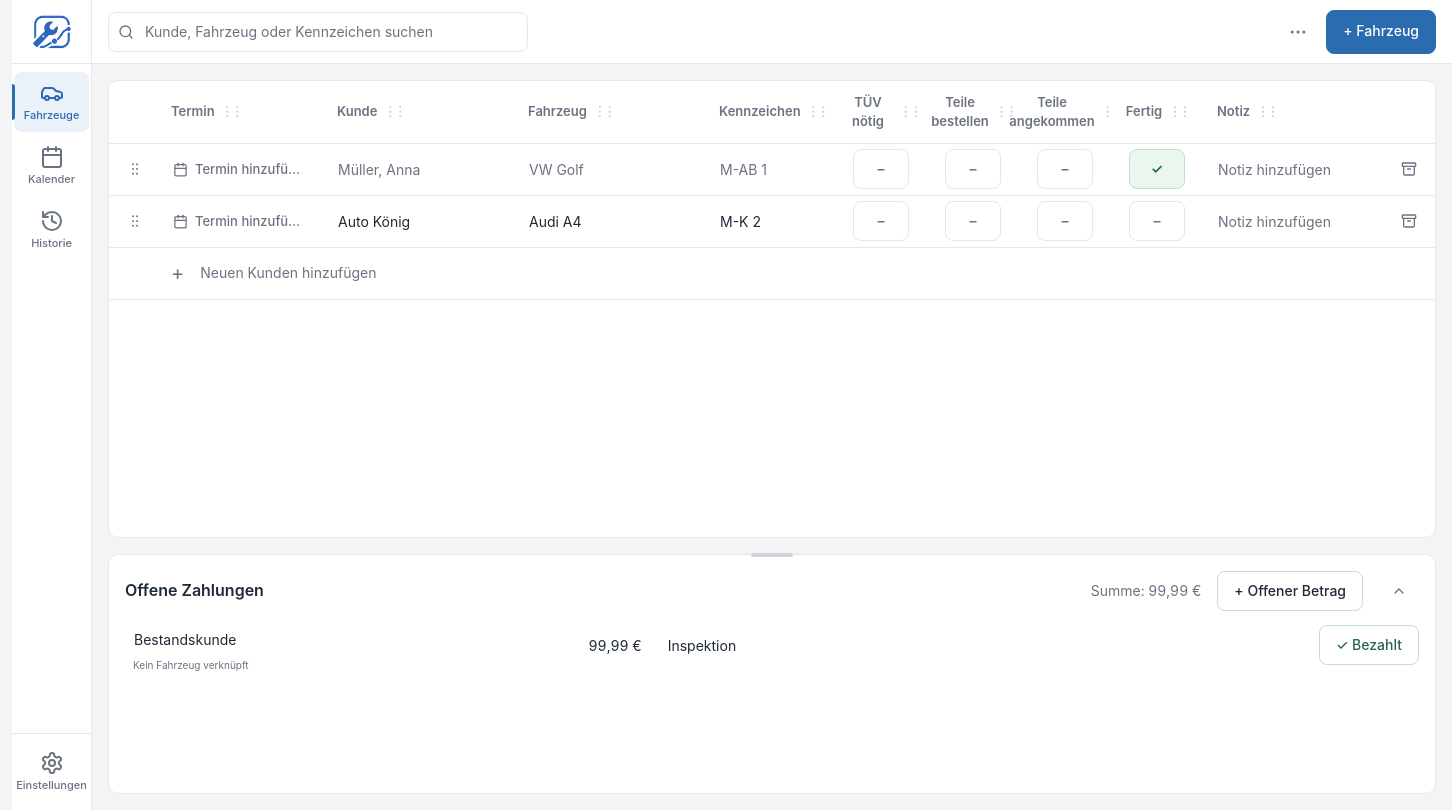
Test: Secret-Sitzung und Inline-Historie › blendet Secret-History in der bereits geöffneten Historie erst nach Long-Press ein
The image size is (1452, 810).
Expected: the 1st field showing "Müller, Anna" is shown, [329,149,508,189]
Click the button "Historie".
click(52, 230)  # box [14,200,89,260]
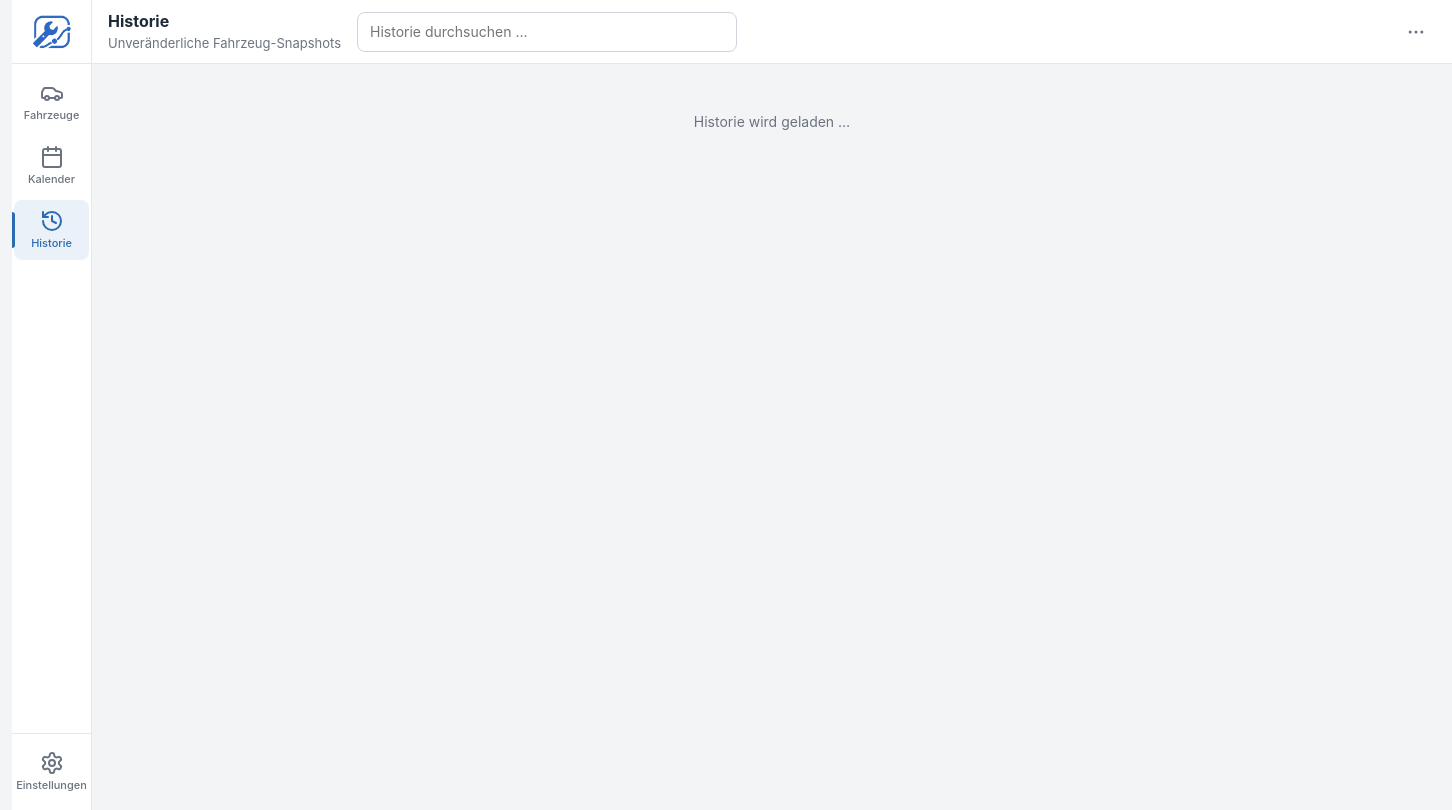
Expected: the text "Versteckte Rechnung" is not shown
Press the mouse on the element with class "app-logo" at point(52, 32), box [32,12,72,52]
Wait 3000 ms
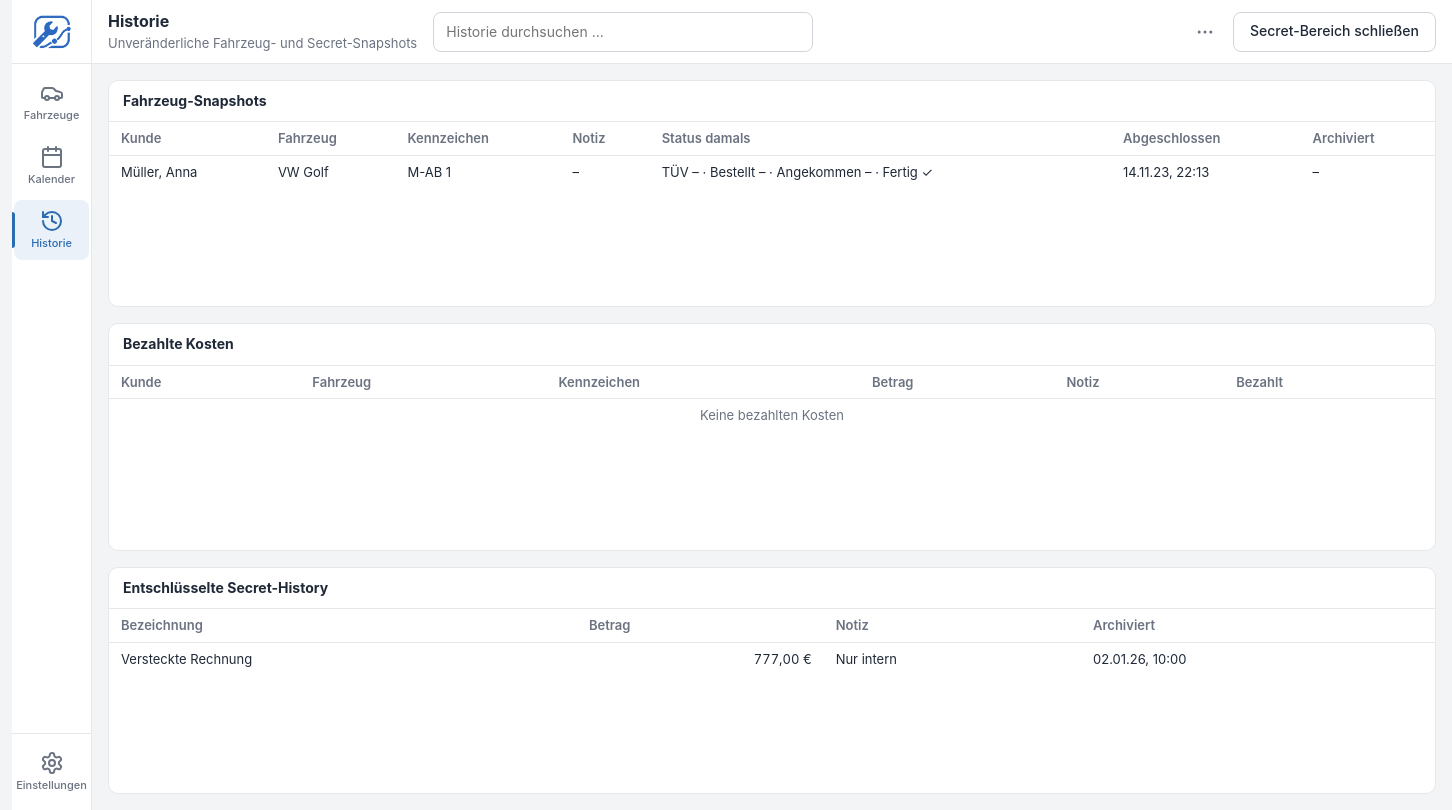
Result: the heading "Entschlüsselte Secret-History" is shown at [123,578,328,598]
Result: the text "Versteckte Rechnung" is shown at [109,642,577,676]
